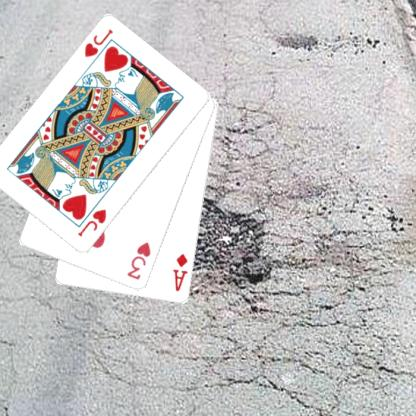3H: (124, 240, 152, 282)
AD: (171, 251, 189, 293)
JH: (81, 27, 115, 59), (75, 207, 108, 238)
